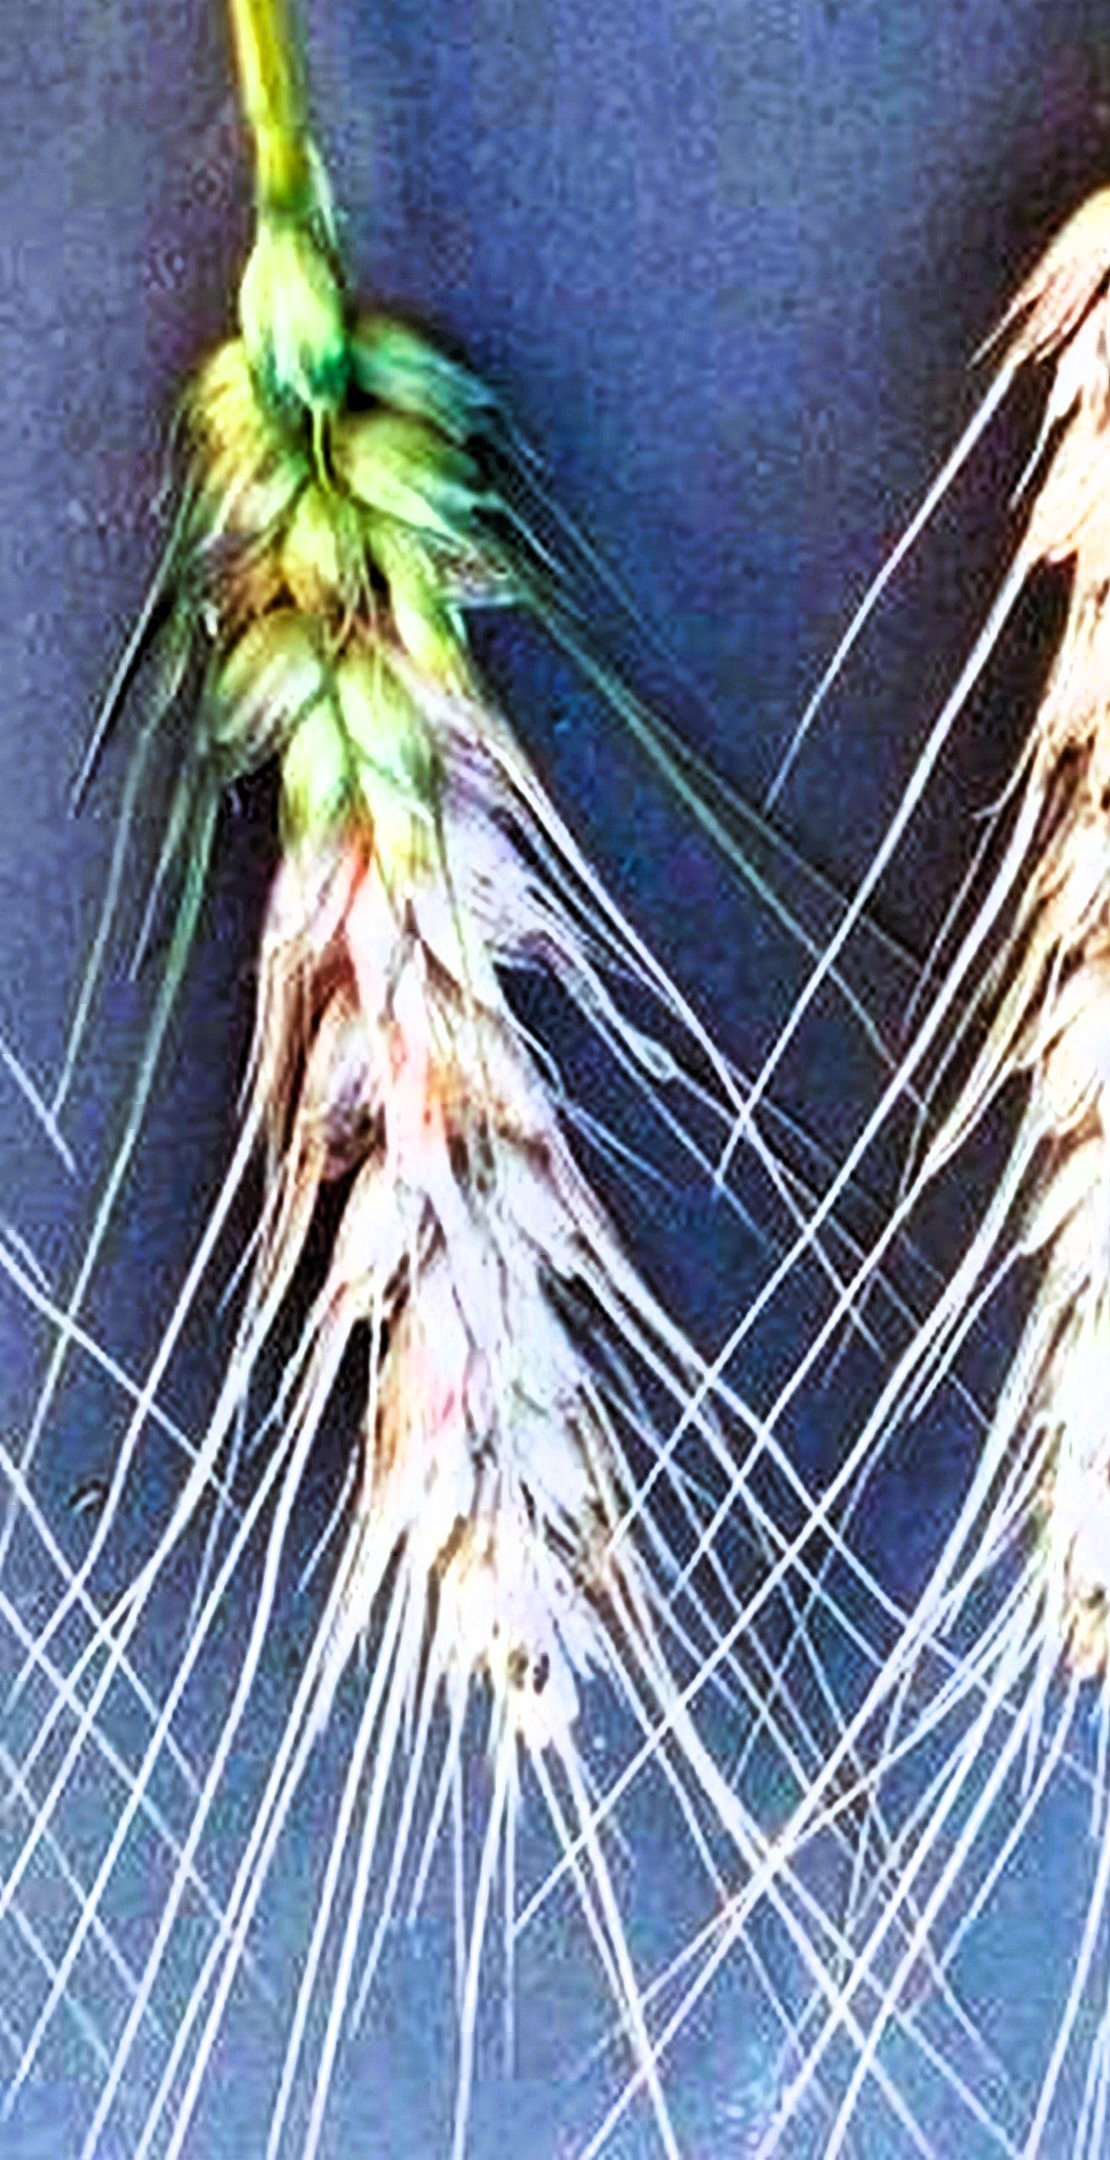Wheat scab: (166, 310, 719, 1742)
